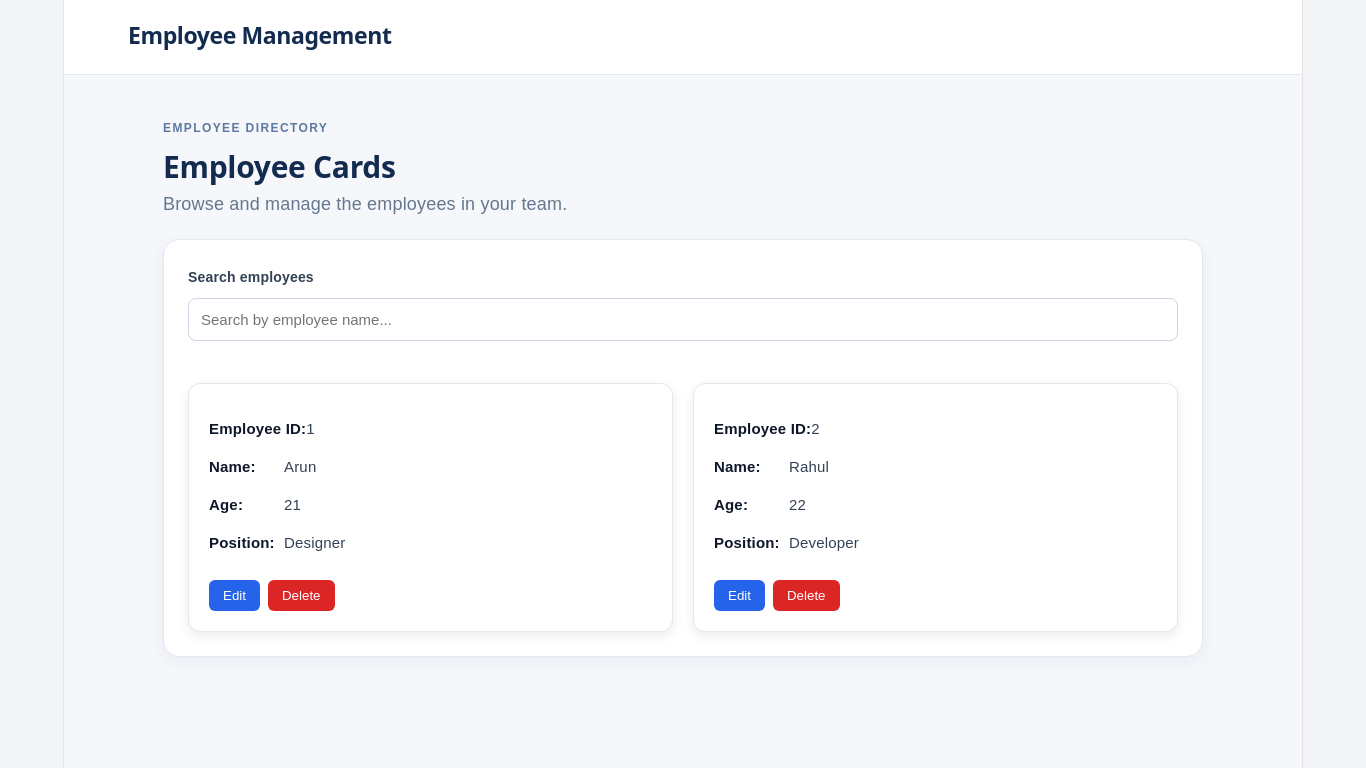
Test case: Employee pages › filters employee cards by name
Type "Arun" into the search field with placeholder "Search by employee name..." at [683, 319], box [188,298,1178,341]
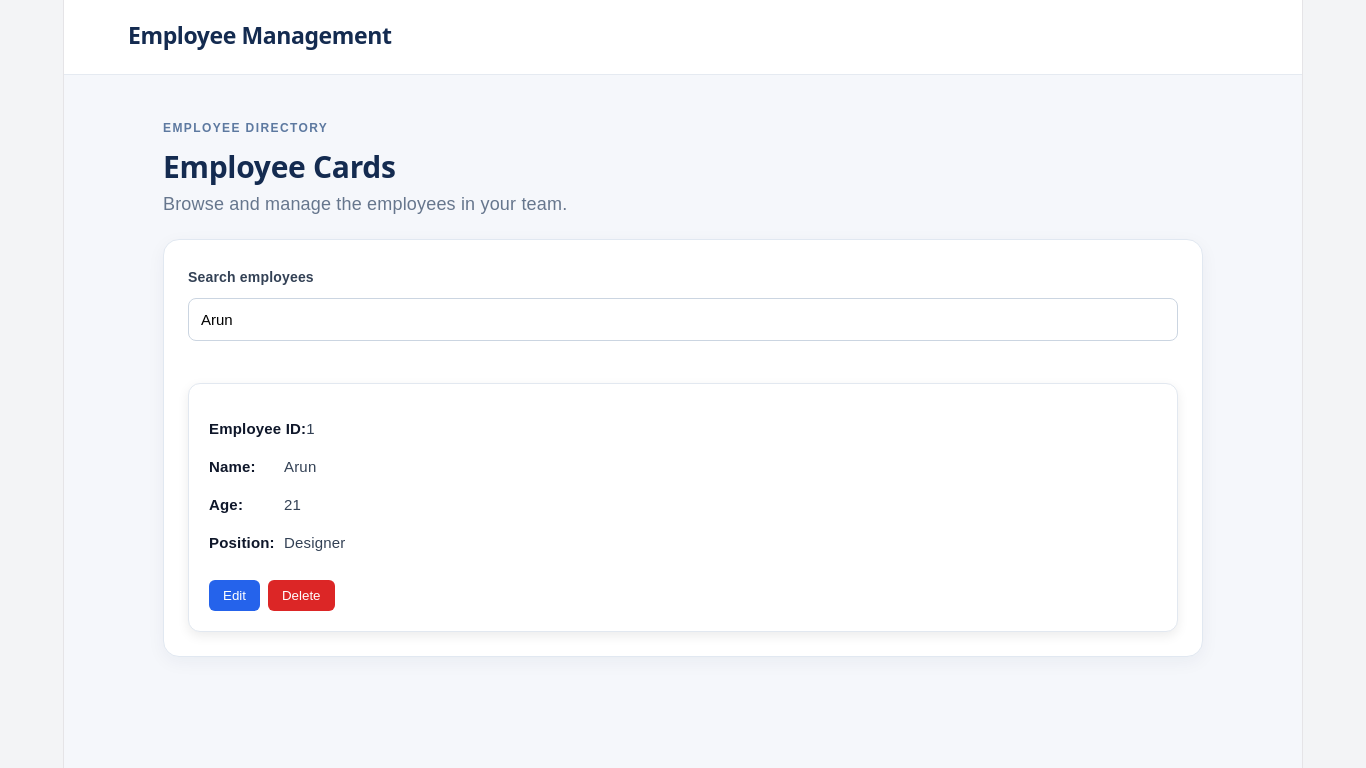
Expected: the text "Arun" is shown, [284,458,316,475]
Now the text "Rahul" is gone
